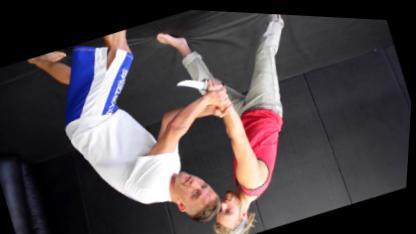knife: (172, 63, 229, 102)
